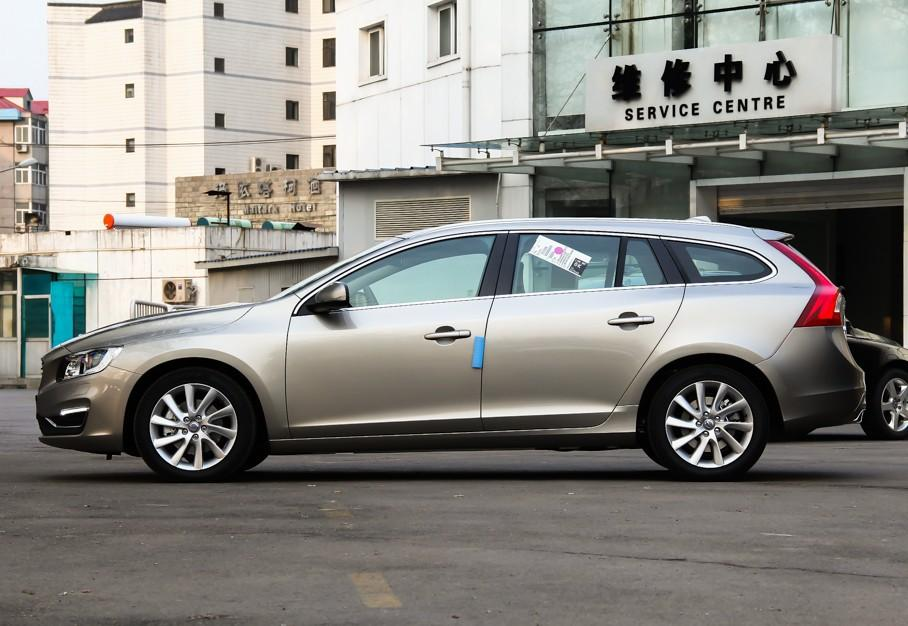Wagon: (34, 215, 866, 484)
